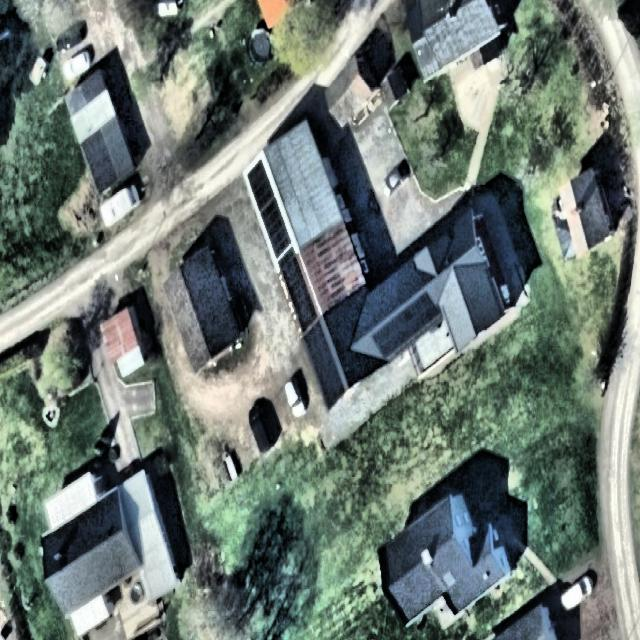roof_pv: (303, 317, 345, 405), (278, 246, 316, 320), (400, 287, 441, 339), (260, 199, 292, 255), (374, 303, 401, 363), (246, 158, 274, 210)
